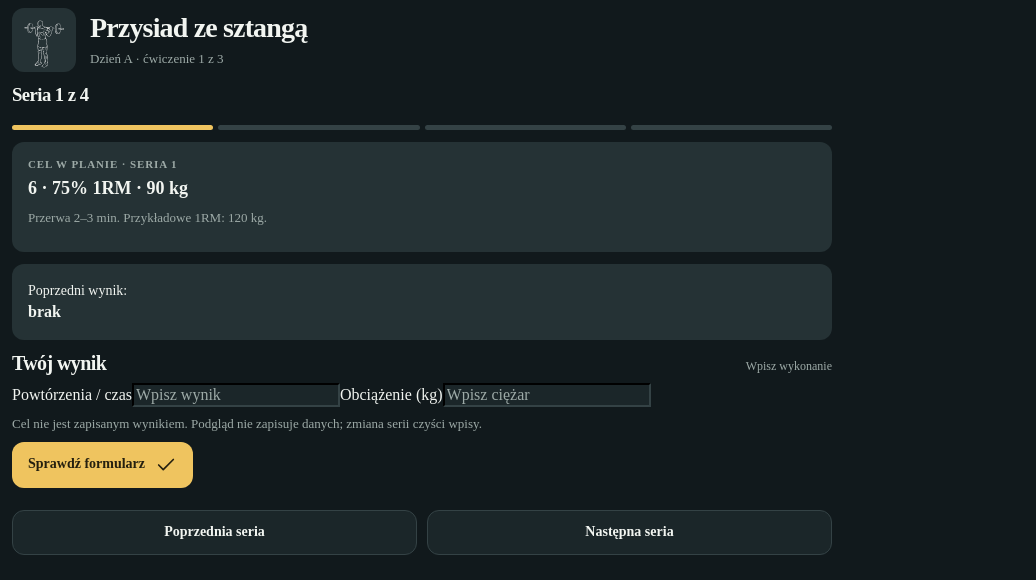
Test: nawigacja między seriami przekracza granicę ćwiczenia w obie strony
Click the button "Następna seria".
click(630, 532)  # box [427,510,832,555]
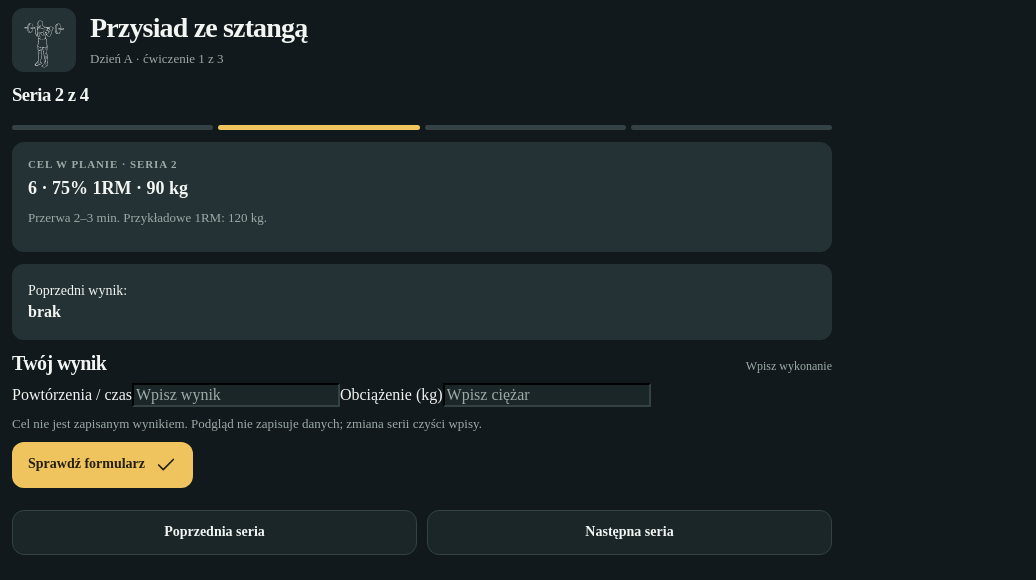
Click the button "Następna seria".
click(630, 532)  # box [427,510,832,555]
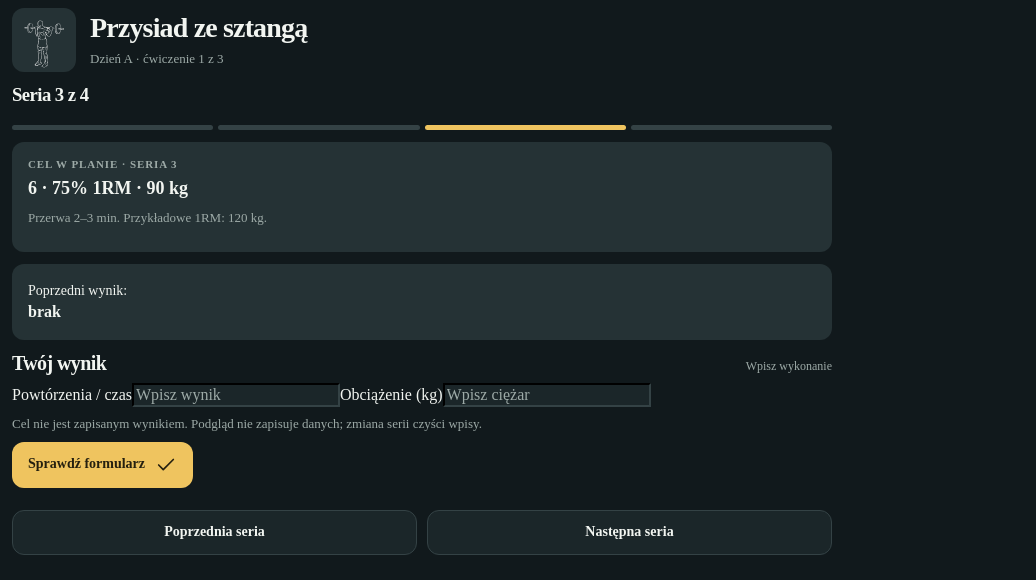
Click the button "Następna seria".
click(630, 532)  # box [427,510,832,555]
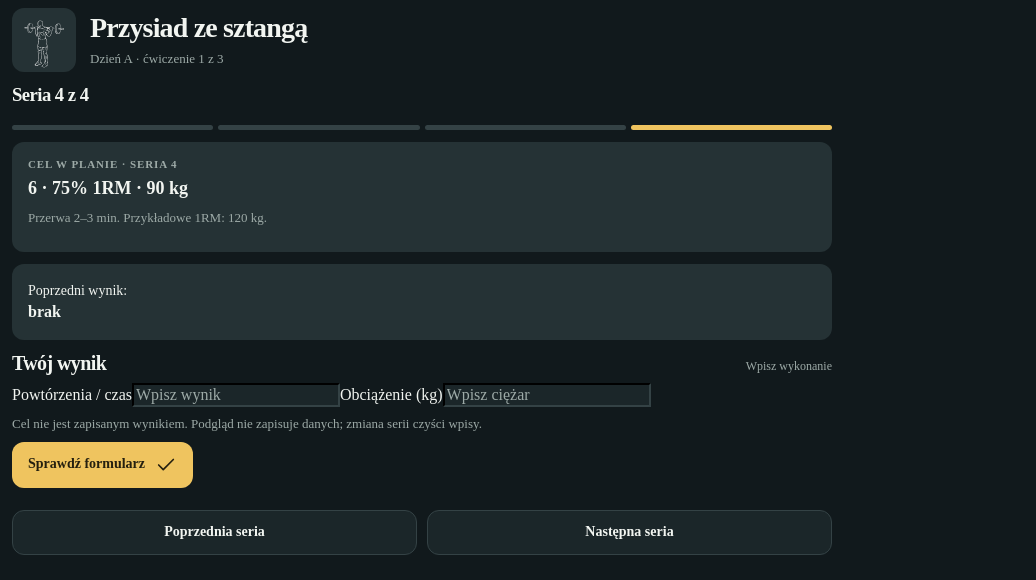
Click the button "Następna seria".
click(630, 532)  # box [427,510,832,555]
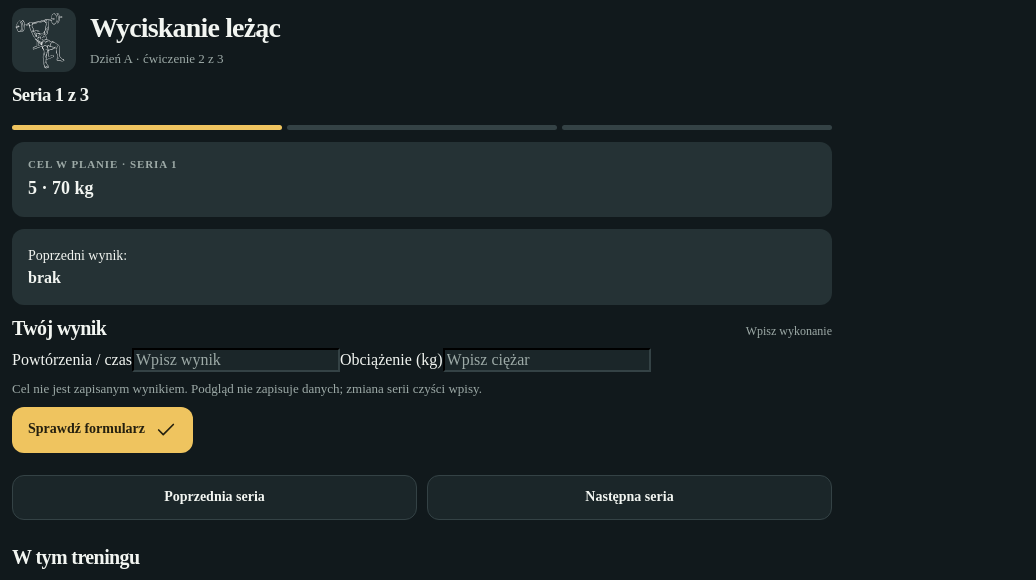
Now the heading "Wyciskanie leżąc" is shown, box [90,12,280,44]
Now the heading "Seria 1 z 3" is shown, box [12,84,88,105]
Click the button "Poprzednia seria".
click(214, 497)  # box [12,475,417,520]
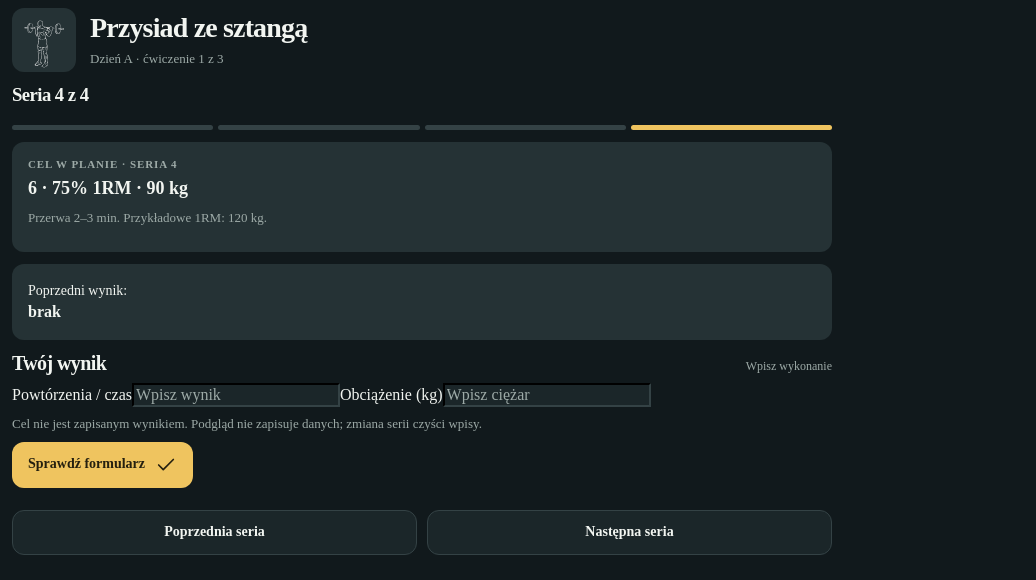
Now the heading "Przysiad ze sztangą" is shown, box [90,12,307,44]
Now the heading "Seria 4 z 4" is shown, box [12,84,88,105]
